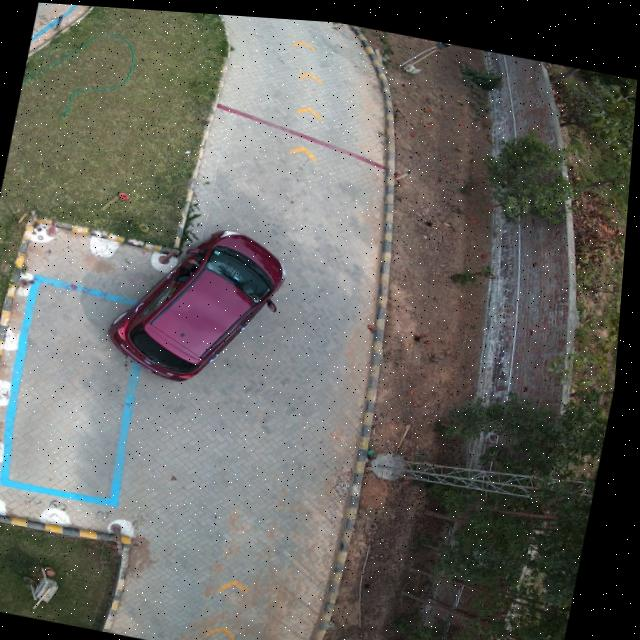car: (113, 227, 287, 377)
